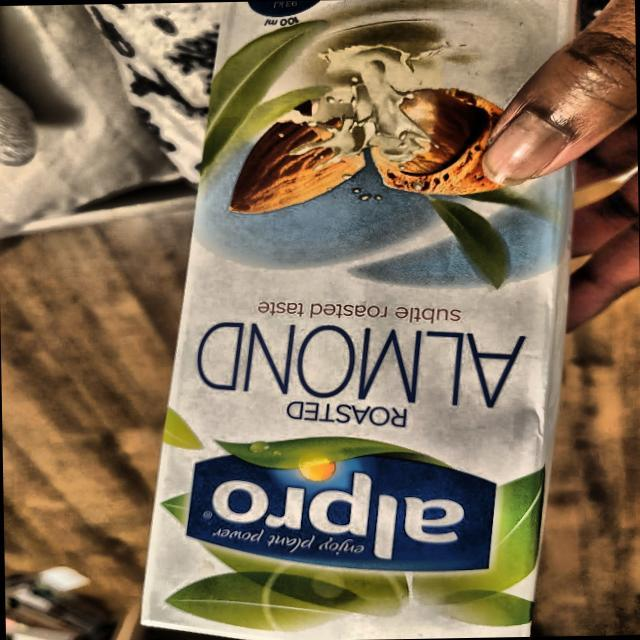cardboard: (127, 0, 593, 640)
